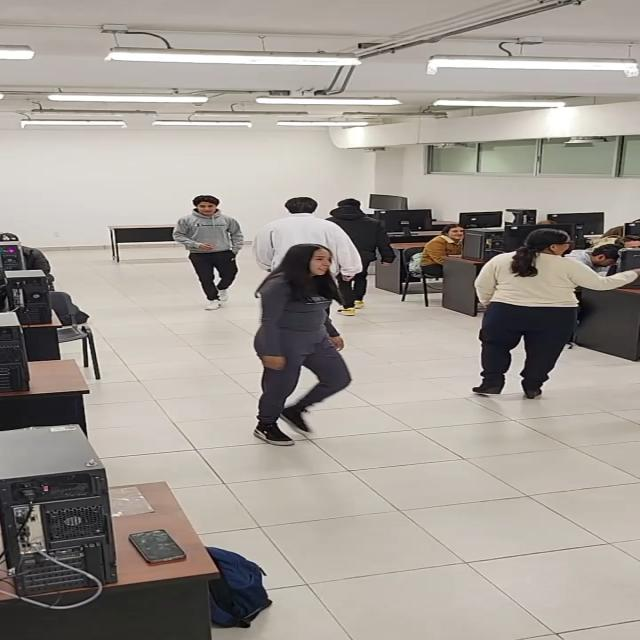Persona: (254, 243, 349, 451), (478, 228, 590, 397), (178, 194, 247, 310), (332, 192, 397, 285), (268, 194, 356, 262)
